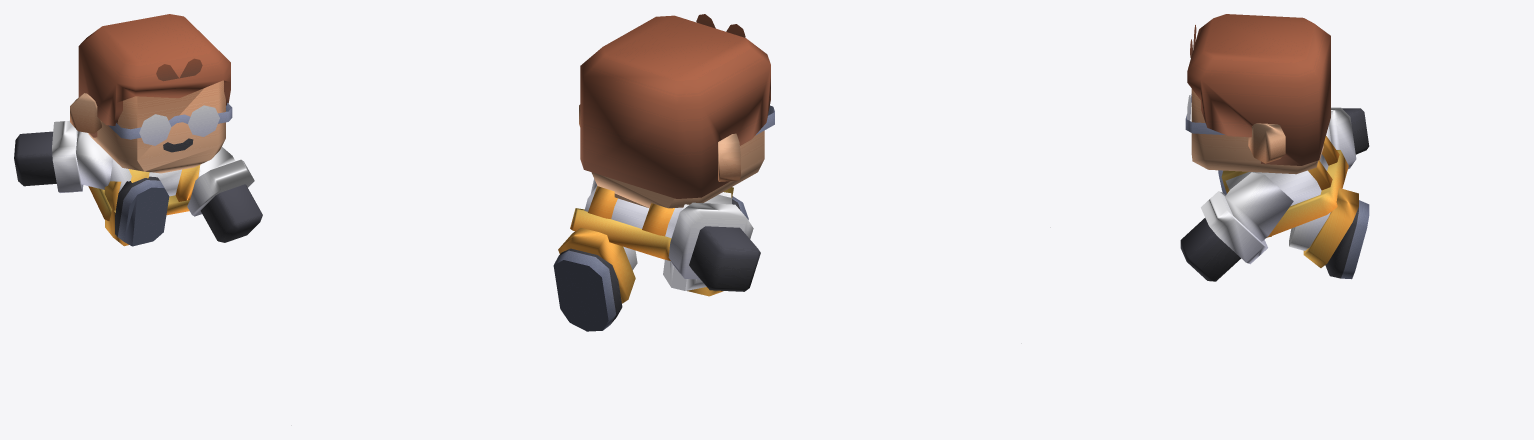
File: builder_sprint_8.glb
The picture shows the model from 3 angles, left to right: view 1: azimuth 30°, elevation 25°; view 2: azimuth 150°, elevation 25°; view 3: azimuth 270°, elevation 25°; orthographic projection. The views are drawn at different scales.
Parts seen in each view (by area): view 1: builder-sprint-8; view 2: builder-sprint-8; view 3: builder-sprint-8.
Boxes of the visible parts, x1=… form: builder-sprint-8: x1=14, y1=14, x2=262, y2=246; builder-sprint-8: x1=553, y1=14, x2=774, y2=331; builder-sprint-8: x1=1180, y1=14, x2=1369, y2=281.
Bounding box in the file's own units: 1.2 × 0.8174 × 1.2.
Materials: 1 (1 with a texture image).
